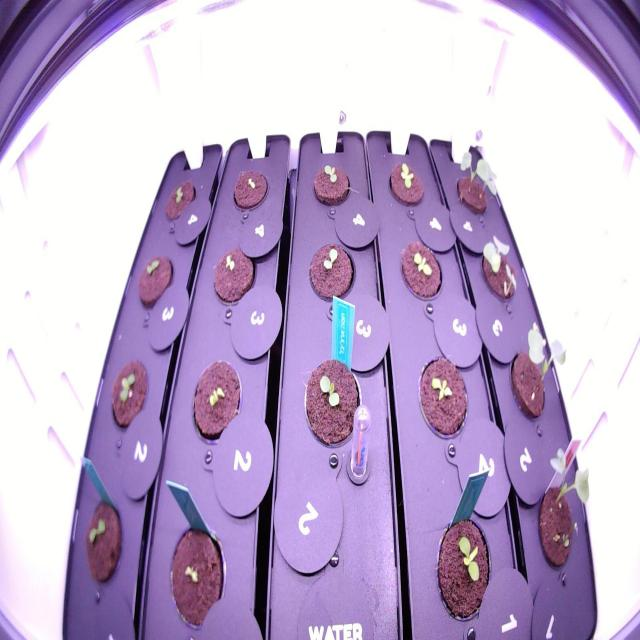germination: (534, 433, 598, 577), (290, 346, 369, 461), (161, 514, 232, 634), (504, 314, 572, 425), (182, 352, 245, 451), (77, 489, 130, 596), (301, 229, 358, 311), (475, 222, 525, 313), (448, 146, 503, 224), (104, 355, 153, 436), (208, 238, 260, 312), (134, 248, 180, 320), (306, 152, 356, 218), (224, 160, 273, 223), (159, 171, 202, 231)
young: (429, 505, 499, 630), (412, 348, 471, 445), (395, 222, 445, 314), (385, 154, 430, 212)
